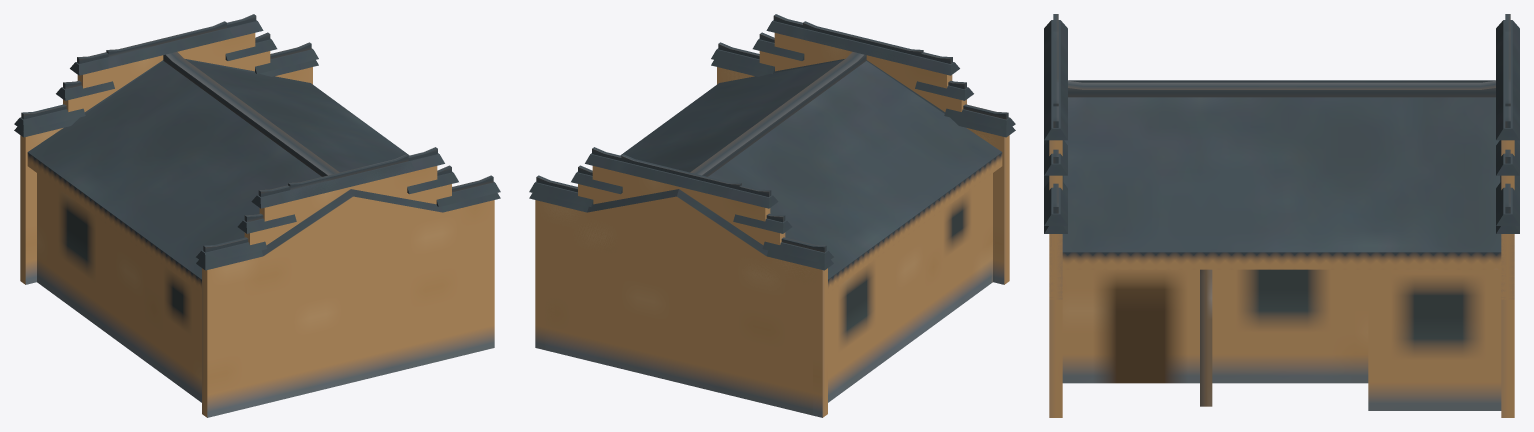
Rendered from Hui_Building_Residential_L1_03_Mod.fbx.
The picture shows the model from 3 angles, left to right: view 1: azimuth 30°, elevation 25°; view 2: azimuth 150°, elevation 25°; view 3: azimuth 270°, elevation 25°; orthographic projection. The views are drawn at different scales.
Parts seen in each view (by area): view 1: Hui_Building_Residential_L1_03_Mod, Hui_Building_Residential_WallL_L1_03_Mod, Hui_Building_Residential_WallL_L1_02_Mod, Hui_Building_Residential_WallR_L1_03_Mod, Hui_Building_Residential_WallL_L1_01_Mod, Hui_Building_Residential_WallR_L1_01_Mod, Hui_Building_Residential_WallR_L1_02_Mod; view 2: Hui_Building_Residential_L1_03_Mod, Hui_Building_Residential_WallR_L1_01_Mod, Hui_Building_Residential_WallR_L1_02_Mod, Hui_Building_Residential_WallL_L1_01_Mod, Hui_Building_Residential_WallL_L1_03_Mod, Hui_Building_Residential_WallR_L1_03_Mod, Hui_Building_Residential_WallL_L1_02_Mod; view 3: Hui_Building_Residential_L1_03_Mod, Hui_Building_Residential_WallR_L1_03_Mod, Hui_Building_Residential_WallL_L1_03_Mod, Hui_Building_Residential_WallL_L1_01_Mod, Hui_Building_Residential_WallR_L1_01_Mod.
Part boxes in pixels (left/top/right/bottom): Hui_Building_Residential_L1_03_Mod: left=27, top=52, right=452, bottom=402; Hui_Building_Residential_WallL_L1_03_Mod: left=196, top=154, right=499, bottom=417; Hui_Building_Residential_WallL_L1_02_Mod: left=196, top=189, right=500, bottom=415; Hui_Building_Residential_WallR_L1_03_Mod: left=15, top=21, right=318, bottom=284; Hui_Building_Residential_WallL_L1_01_Mod: left=196, top=147, right=500, bottom=321; Hui_Building_Residential_WallR_L1_01_Mod: left=14, top=14, right=317, bottom=189; Hui_Building_Residential_WallR_L1_02_Mod: left=14, top=59, right=318, bottom=137; Hui_Building_Residential_L1_03_Mod: left=577, top=52, right=1002, bottom=402; Hui_Building_Residential_WallR_L1_01_Mod: left=529, top=147, right=833, bottom=415; Hui_Building_Residential_WallR_L1_02_Mod: left=529, top=189, right=833, bottom=349; Hui_Building_Residential_WallL_L1_01_Mod: left=711, top=14, right=1015, bottom=282; Hui_Building_Residential_WallL_L1_03_Mod: left=711, top=21, right=1009, bottom=284; Hui_Building_Residential_WallR_L1_03_Mod: left=535, top=154, right=833, bottom=417; Hui_Building_Residential_WallL_L1_02_Mod: left=711, top=59, right=1015, bottom=190; Hui_Building_Residential_L1_03_Mod: left=1062, top=80, right=1501, bottom=410; Hui_Building_Residential_WallR_L1_03_Mod: left=1496, top=31, right=1519, bottom=417; Hui_Building_Residential_WallL_L1_03_Mod: left=1044, top=31, right=1067, bottom=417; Hui_Building_Residential_WallL_L1_01_Mod: left=1044, top=14, right=1067, bottom=299; Hui_Building_Residential_WallR_L1_01_Mod: left=1496, top=14, right=1519, bottom=299.
Size of the model in its own units: 730 by 500 by 819.
